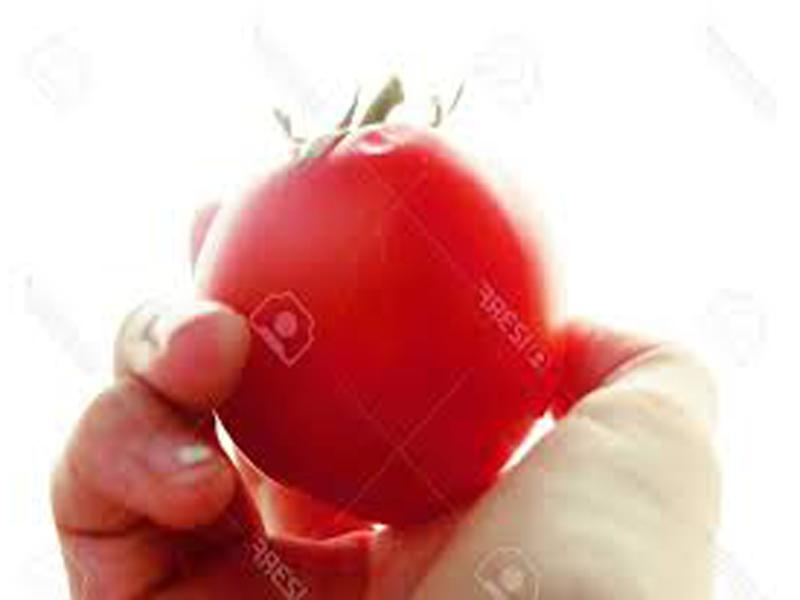Tomato: (191, 118, 560, 518)
